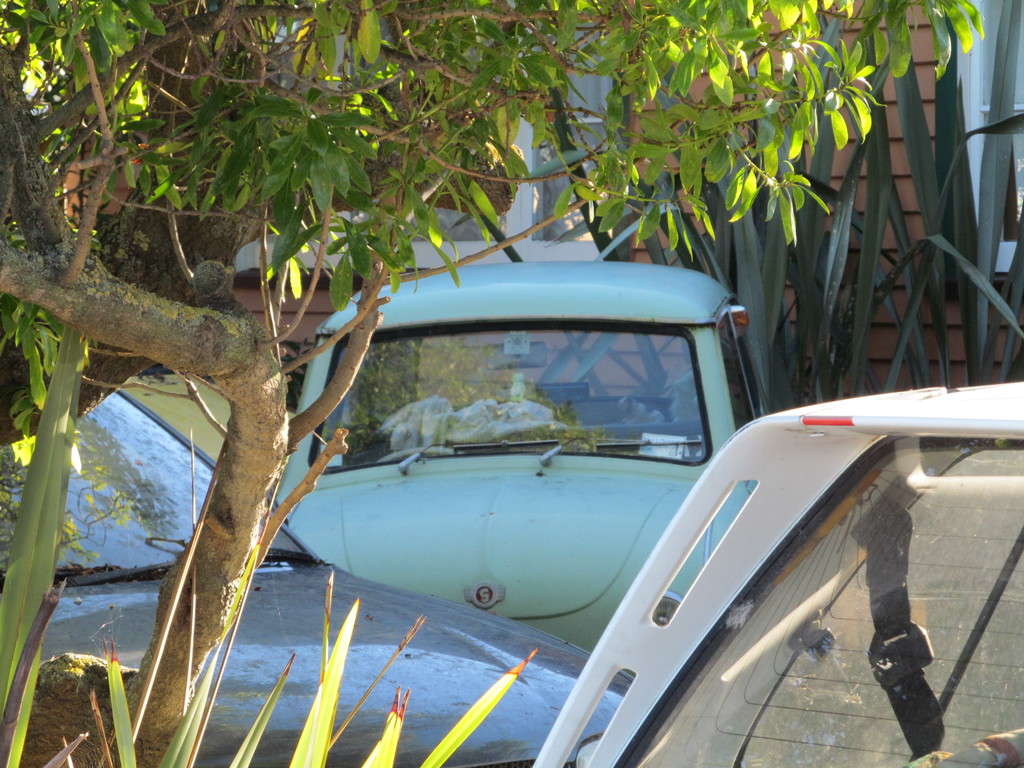Car: (0, 387, 635, 767), (275, 261, 770, 674), (600, 383, 1001, 762)
